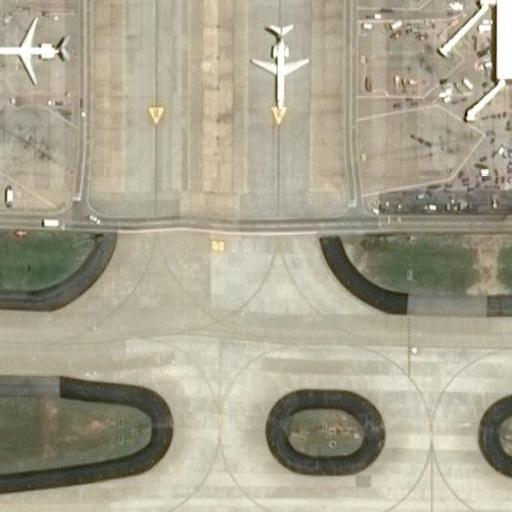Aircraft: (244, 16, 311, 117), (0, 7, 72, 90)
